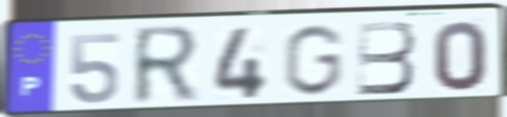0: (429, 16, 490, 94)
4: (210, 24, 271, 101)
5: (67, 30, 121, 106)
B: (355, 18, 418, 98)
G: (280, 22, 347, 98)
R: (131, 23, 205, 109)
